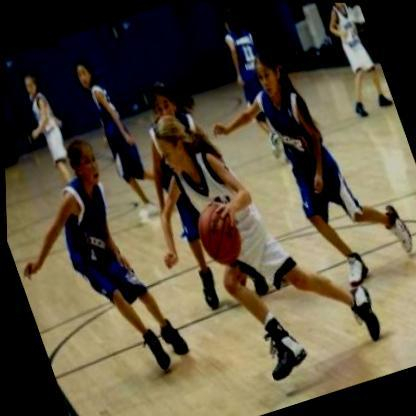basketball: (182, 194, 254, 275)
